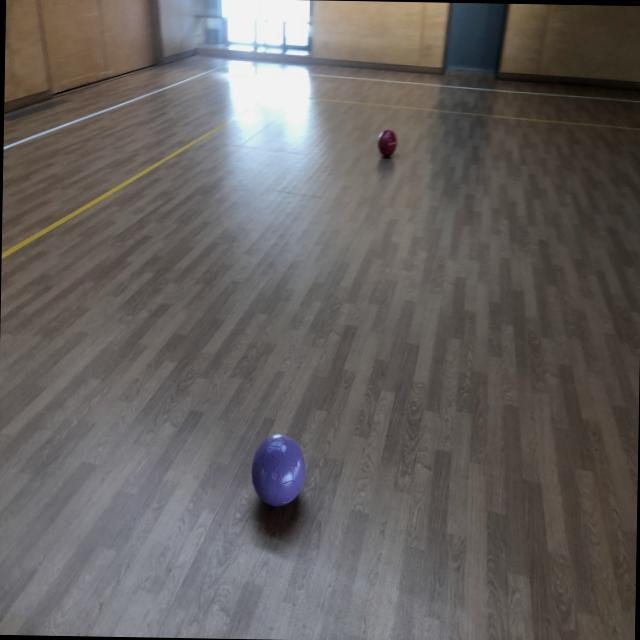purple_ball: (250, 434, 308, 506)
red_ball: (377, 129, 398, 156)
